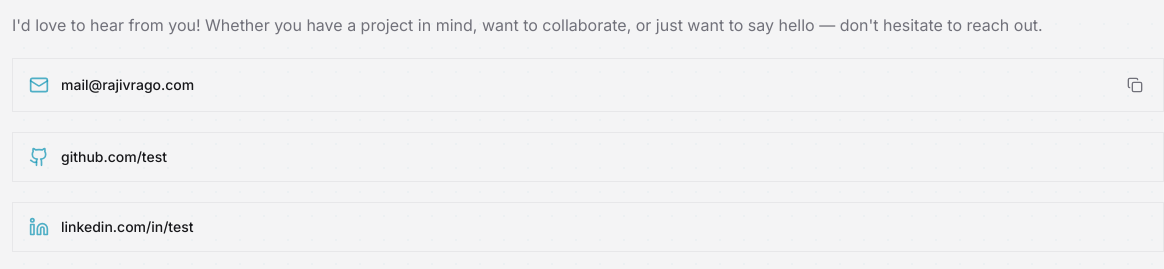
Test: ContactLinks – email copy › changes button label to "Copied" after clicking copy
Click the button named "copy email" at (1135, 85), box [1123,73,1147,97]
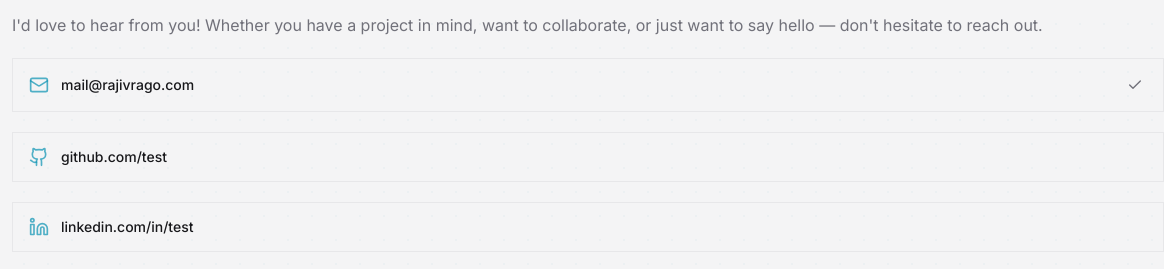
Check: the button named "copied" is shown, box [1123,73,1147,97]
